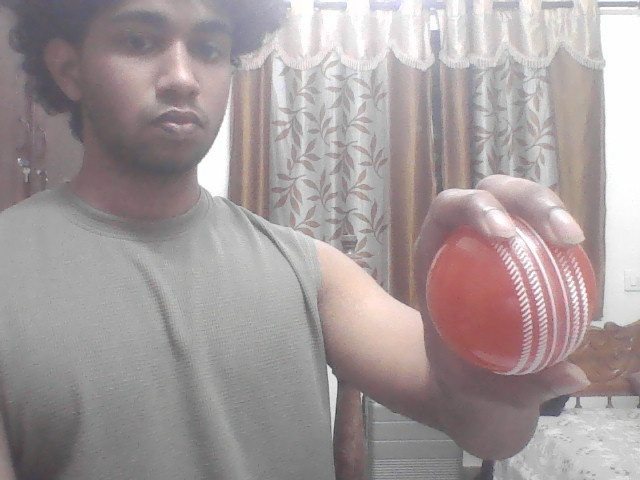cricket_ball: (425, 222, 595, 374)
